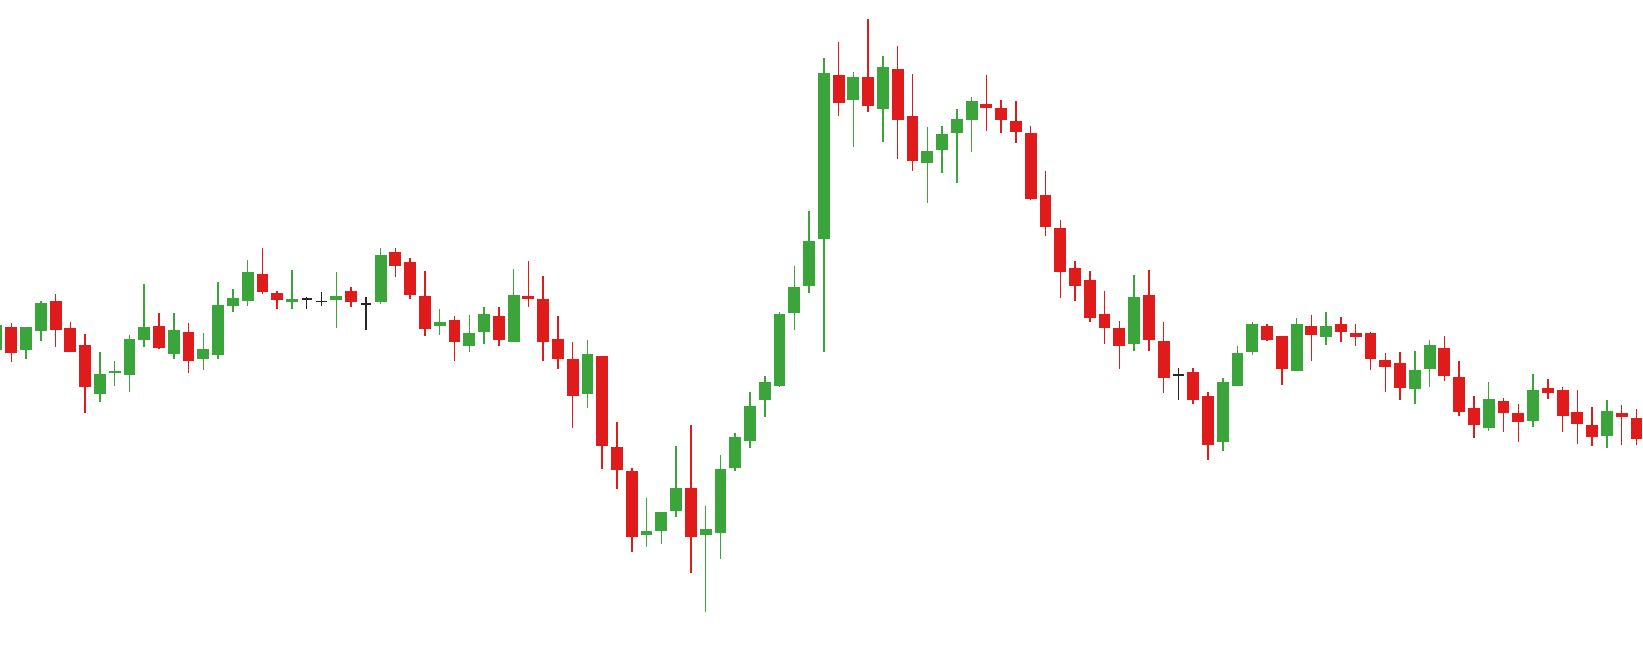buy: (625, 471, 711, 632)
